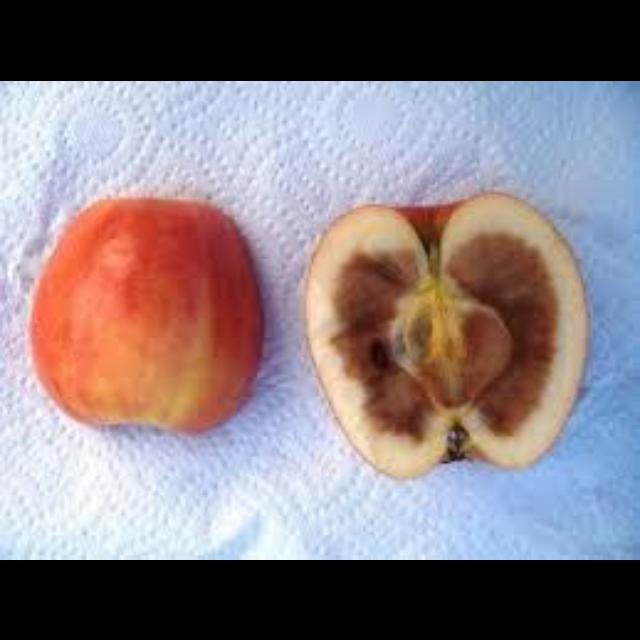apple: (304, 191, 588, 475), (32, 196, 262, 431)
rotten: (332, 225, 565, 445)
